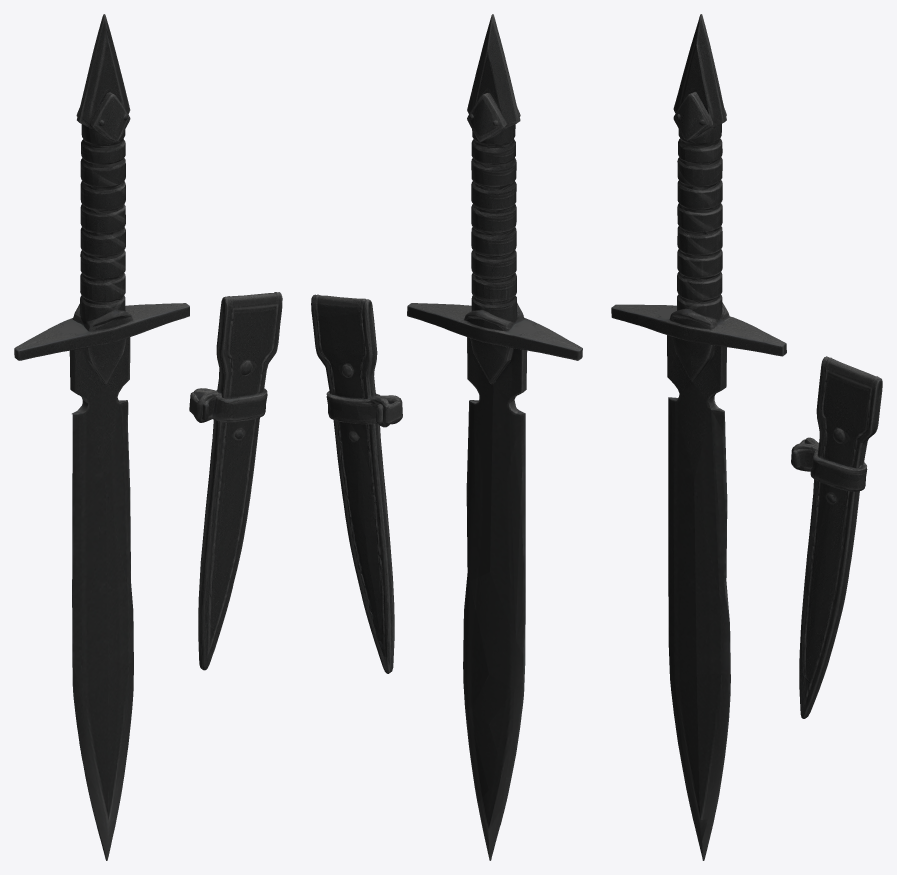
Rendered from Meshy_AI_Weapon_vex_dagger_01a0e88a_texture.glb.
3 views of the same model, side by side, from view 1: azimuth 30°, elevation 25°; view 2: azimuth 150°, elevation 25°; view 3: azimuth 330°, elevation 25° (orthographic).
Size of the model in its own units: 0.6264 by 1.9 by 0.1178.
1 material, 1 textured.
